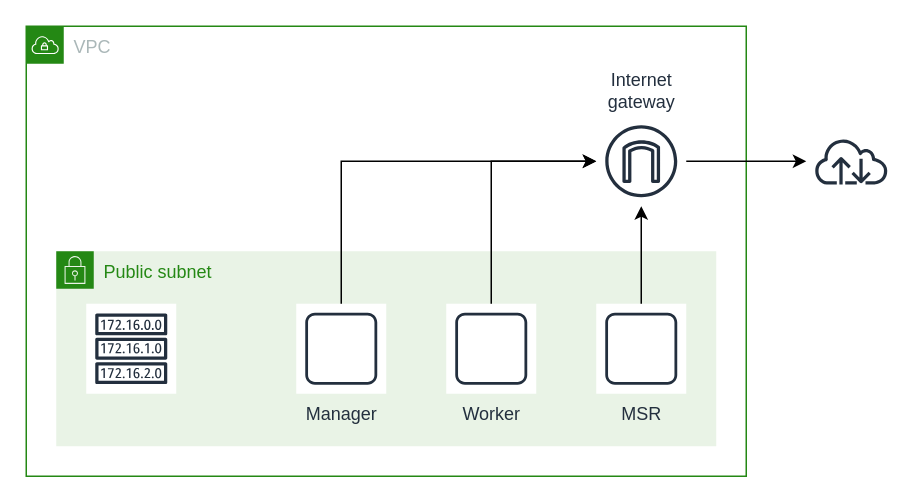
This 923x503 diagram has some shape labels left out. The centre of each missing label's shape, as x and y in pixels:
Internet: (x=850, y=160)
Route table: (x=130, y=348)
